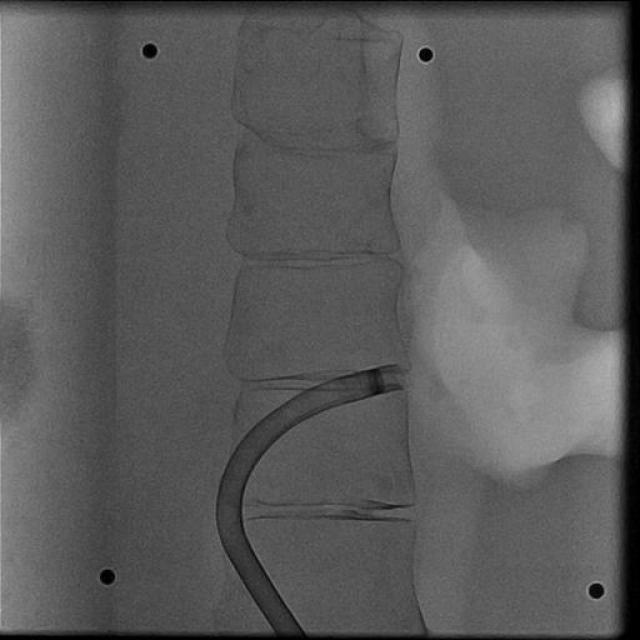bend: (215, 512, 245, 536)
entry: (274, 626, 304, 634)
marker: (366, 369, 386, 396)
tip: (393, 364, 407, 390)
